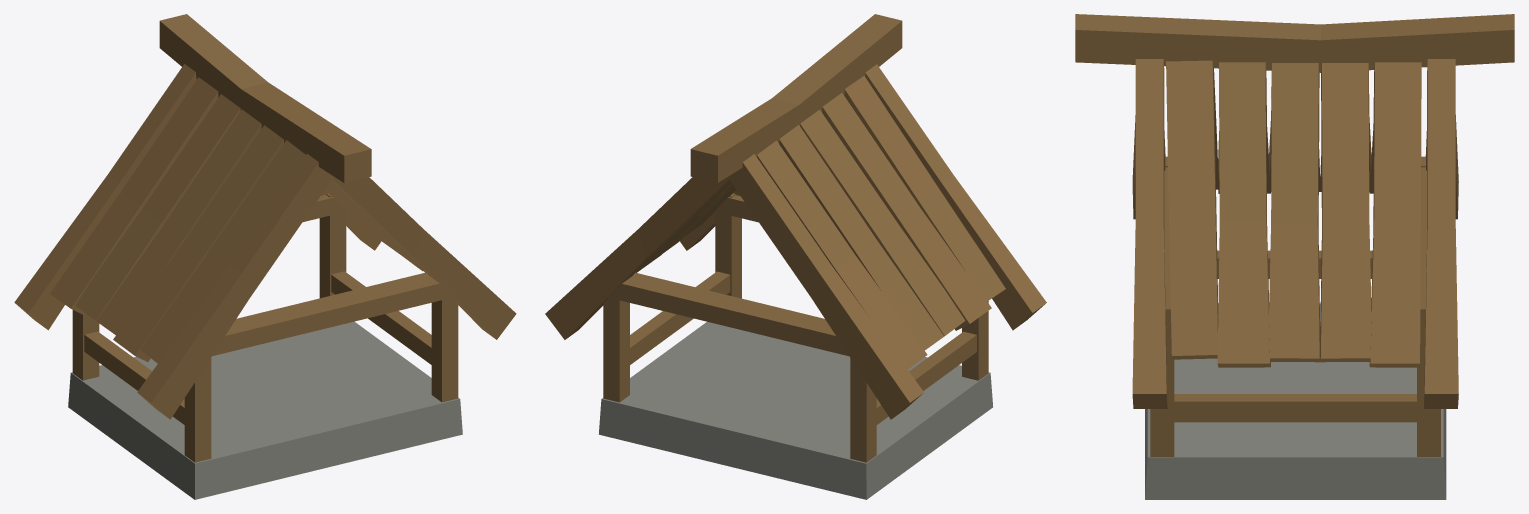
Rendered from hut.glb.
The picture shows the model from 3 angles, left to right: view 1: azimuth 30°, elevation 25°; view 2: azimuth 150°, elevation 25°; view 3: azimuth 270°, elevation 25°; orthographic projection. The views are drawn at different scales.
Parts seen in each view (by area): view 1: Houses_FirstAge_1_Level1; view 2: Houses_FirstAge_1_Level1; view 3: Houses_FirstAge_1_Level1.
Part boxes in pixels (bbox=[...]): Houses_FirstAge_1_Level1: bbox=[14, 14, 516, 499]; Houses_FirstAge_1_Level1: bbox=[545, 14, 1046, 499]; Houses_FirstAge_1_Level1: bbox=[1075, 14, 1514, 499].
Size of the model in its own units: 0.8693 by 0.7645 by 0.7614.
